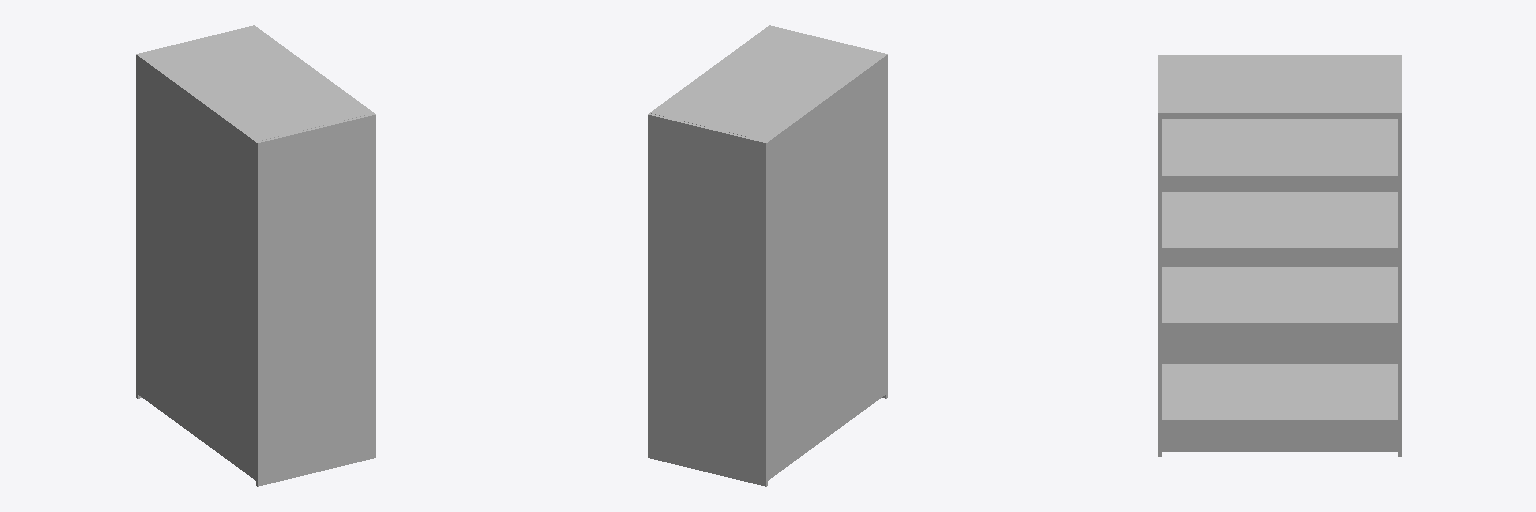
The model's file is bookshelf.obj.
3 views of the same model, side by side, from view 1: azimuth 30°, elevation 25°; view 2: azimuth 150°, elevation 25°; view 3: azimuth 270°, elevation 25° (orthographic).
Parts seen in each view (by area): view 1: pCube1; view 2: pCube1; view 3: pCube1.
Part boxes in pixels (bbox=[...]): pCube1: bbox=[136, 25, 375, 486]; pCube1: bbox=[648, 25, 887, 486]; pCube1: bbox=[1158, 55, 1401, 456].
Bounding box in the file's own units: 1.24 × 3.44 × 2.21.